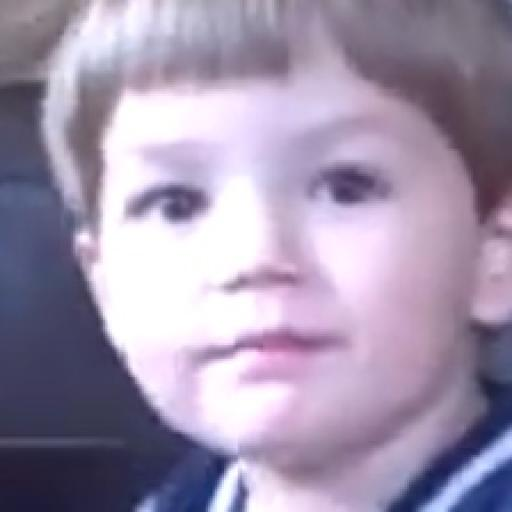Autism: (52, 0, 512, 453)
